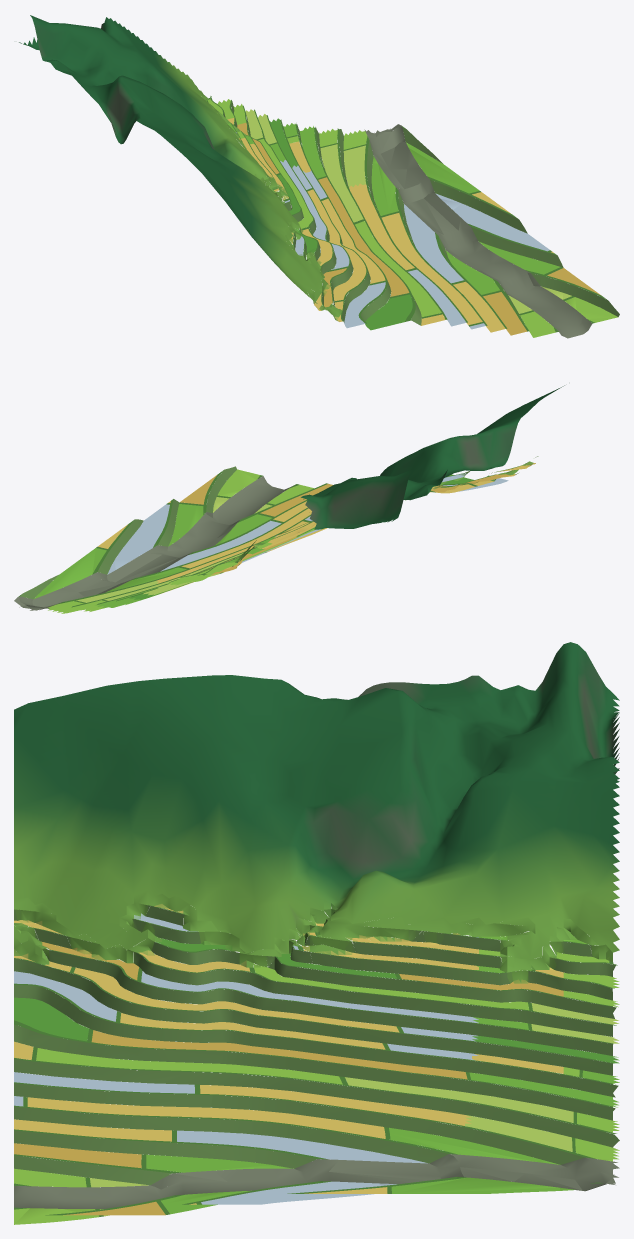
File: payo_land_x0_y2_lod2.glb
3 renders of one model, top to bottom at view 1: azimuth 30°, elevation 25°; view 2: azimuth 150°, elevation 25°; view 3: azimuth 270°, elevation 25°, orthographic. The views are drawn at different scales.
Visible parts, largest first — view 1: payo_land_x0_y2; view 2: payo_land_x0_y2; view 3: payo_land_x0_y2.
Boxes of the visible parts, x1=… form: payo_land_x0_y2: x1=19, y1=15, x2=619, y2=338; payo_land_x0_y2: x1=14, y1=385, x2=564, y2=613; payo_land_x0_y2: x1=14, y1=642, x2=619, y2=1224.
Size of the model in its own units: 255 by 161 by 258.
